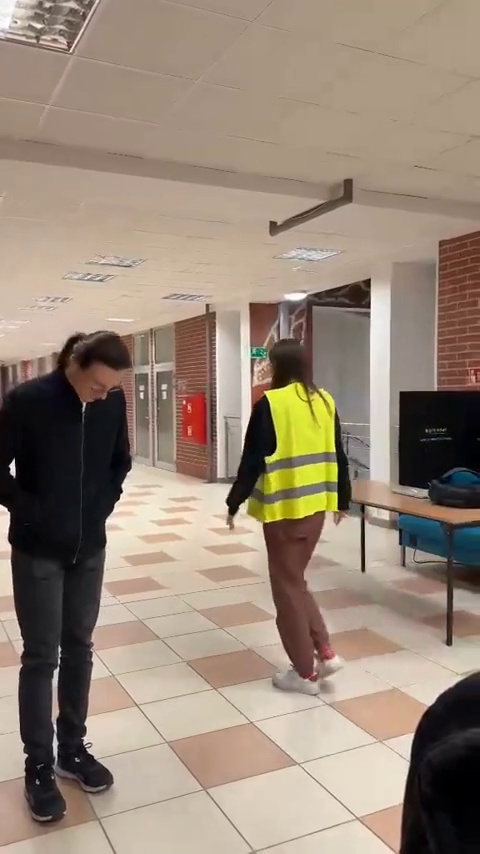no vest: (2, 323, 145, 822)
vest: (235, 335, 360, 700)
